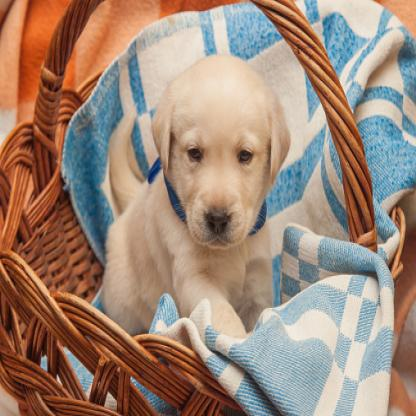dog: (101, 55, 289, 341)
